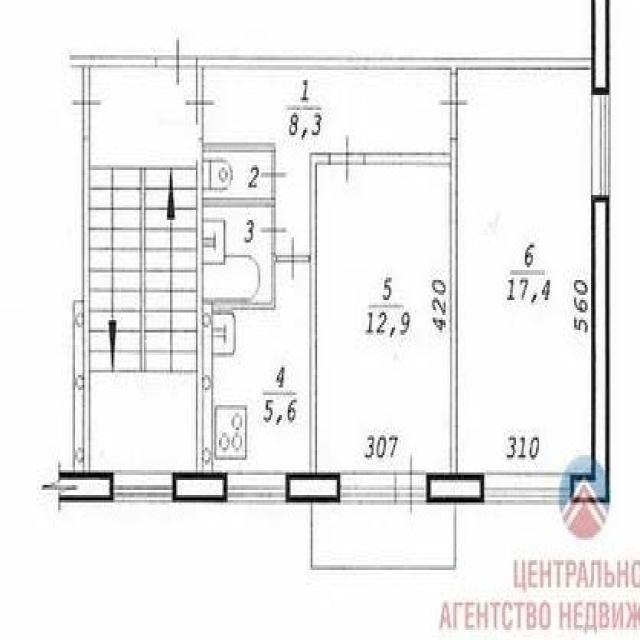Bathrooms: (204, 207, 271, 300), (204, 153, 270, 198)
Corridors: (204, 68, 450, 254), (312, 505, 455, 570)
Doors: (71, 64, 101, 140), (155, 33, 197, 87), (436, 73, 469, 140), (184, 67, 213, 140), (328, 133, 366, 187), (395, 452, 426, 516), (275, 234, 310, 280), (259, 150, 288, 200), (260, 205, 288, 256)
LBwalls: (570, 198, 610, 505), (40, 471, 113, 512), (72, 300, 84, 473), (202, 300, 214, 473), (426, 472, 483, 504), (285, 471, 340, 504), (172, 471, 227, 504), (592, 0, 610, 94)
Offices: (457, 70, 590, 473), (316, 165, 450, 473), (213, 263, 310, 472)
Stairs: (90, 68, 196, 472)
Walls: (365, 139, 458, 476), (197, 54, 592, 76), (310, 152, 330, 475), (213, 255, 275, 310), (196, 139, 203, 471), (84, 139, 90, 472), (69, 55, 156, 67), (202, 141, 275, 152), (203, 198, 276, 206)
Windows: (483, 472, 570, 504), (226, 472, 286, 504), (112, 471, 172, 503), (592, 93, 610, 198), (339, 472, 396, 504)
